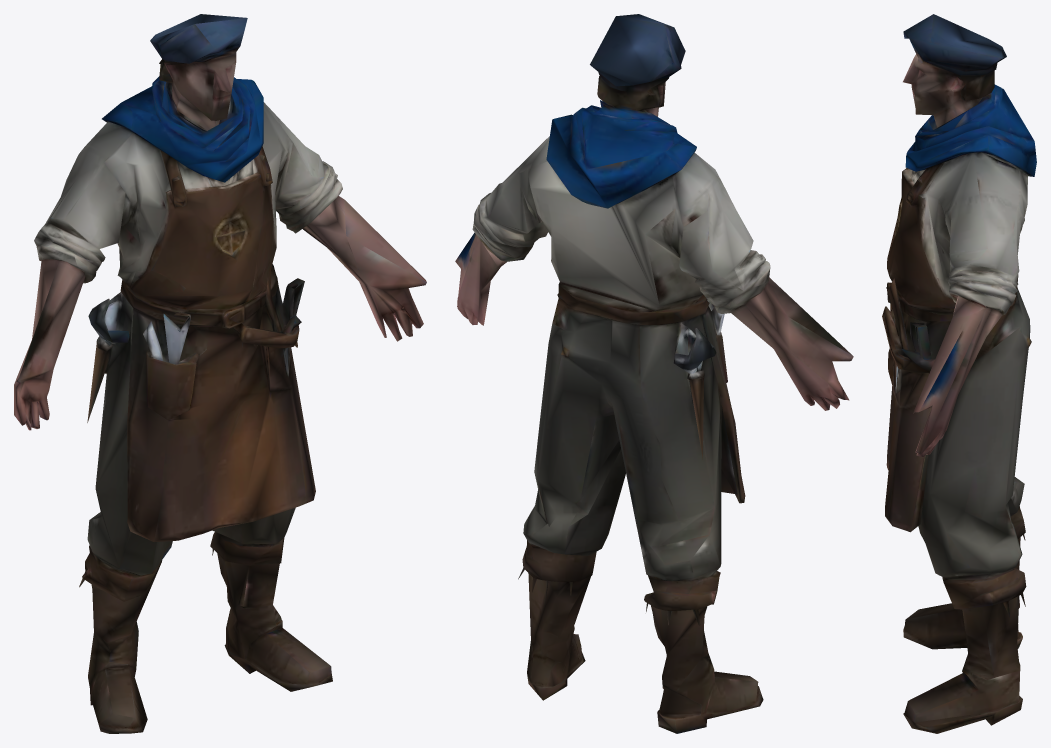
Rendered from hum_worker_lo.glb.
3 views of the same model, side by side, from view 1: azimuth 30°, elevation 25°; view 2: azimuth 150°, elevation 25°; view 3: azimuth 270°, elevation 25° (orthographic). The views are drawn at different scales.
Parts seen in each view (by area): view 1: node_0; view 2: node_0; view 3: node_0.
Part boxes in pixels (x1,y1,x2,y2): node_0: (14,14,426,733); node_0: (455,14,853,733); node_0: (882,14,1036,733).
Size of the model in its own units: 0.7049 by 1.13 by 0.2397.
1 material, 1 textured.
